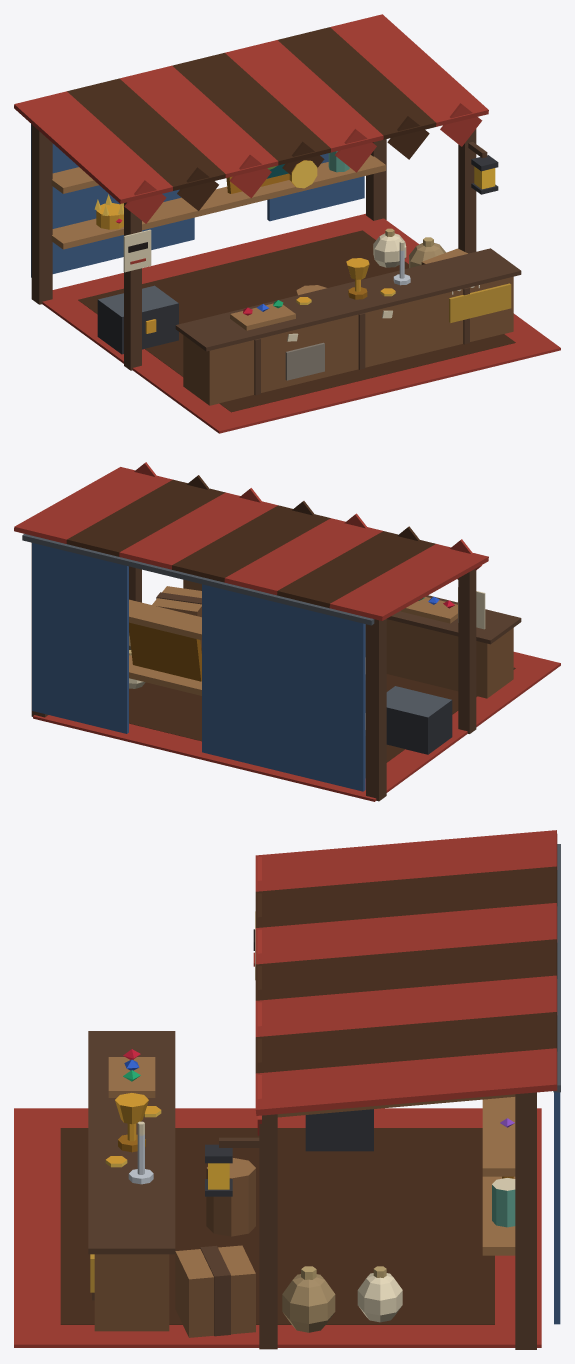
File: bld_fence_stall_2x2.glb
3 views of the same model, one above another, from view 1: azimuth 30°, elevation 25°; view 2: azimuth 150°, elevation 25°; view 3: azimuth 270°, elevation 25° (orthographic). The views are drawn at different scales.
Visible parts, largest first — view 1: bld_fence_stall_2x22; view 2: bld_fence_stall_2x22; view 3: bld_fence_stall_2x22.
Boxes of the visible parts, box(x1,y1,x2,y2) form: bld_fence_stall_2x22: box(14, 14, 560, 433); bld_fence_stall_2x22: box(14, 462, 560, 801); bld_fence_stall_2x22: box(14, 830, 560, 1349).
Bounding box in the file's own units: 1.94 × 0.969 × 1.76.
1 material, 1 textured.
